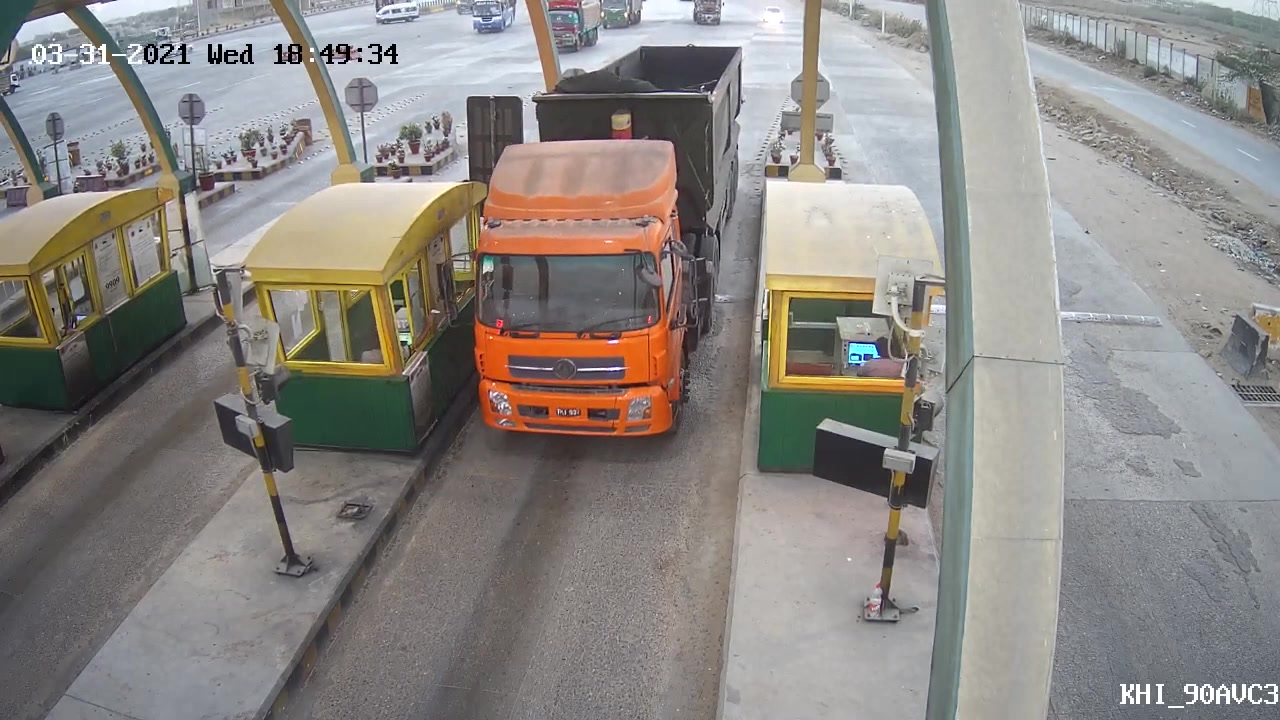F5: (456, 204, 724, 447)
